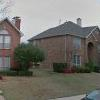Chimney: (72, 13, 86, 35)
